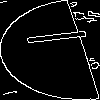I: (25, 25, 100, 47)
